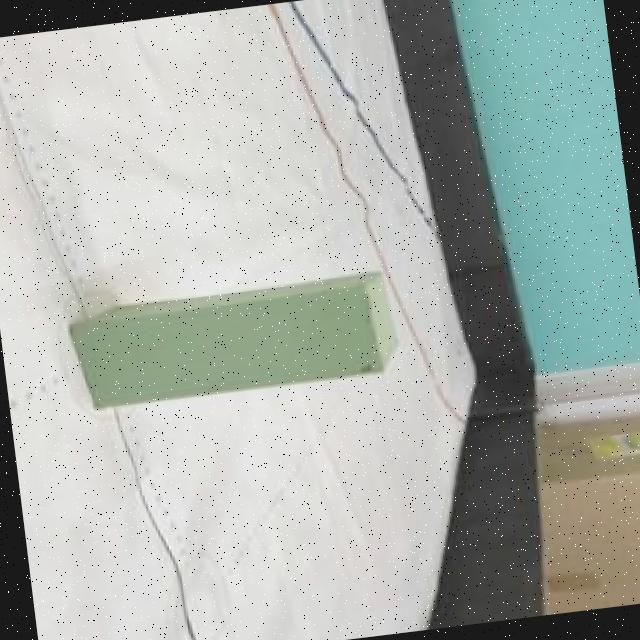greenbox: (66, 268, 400, 410)
